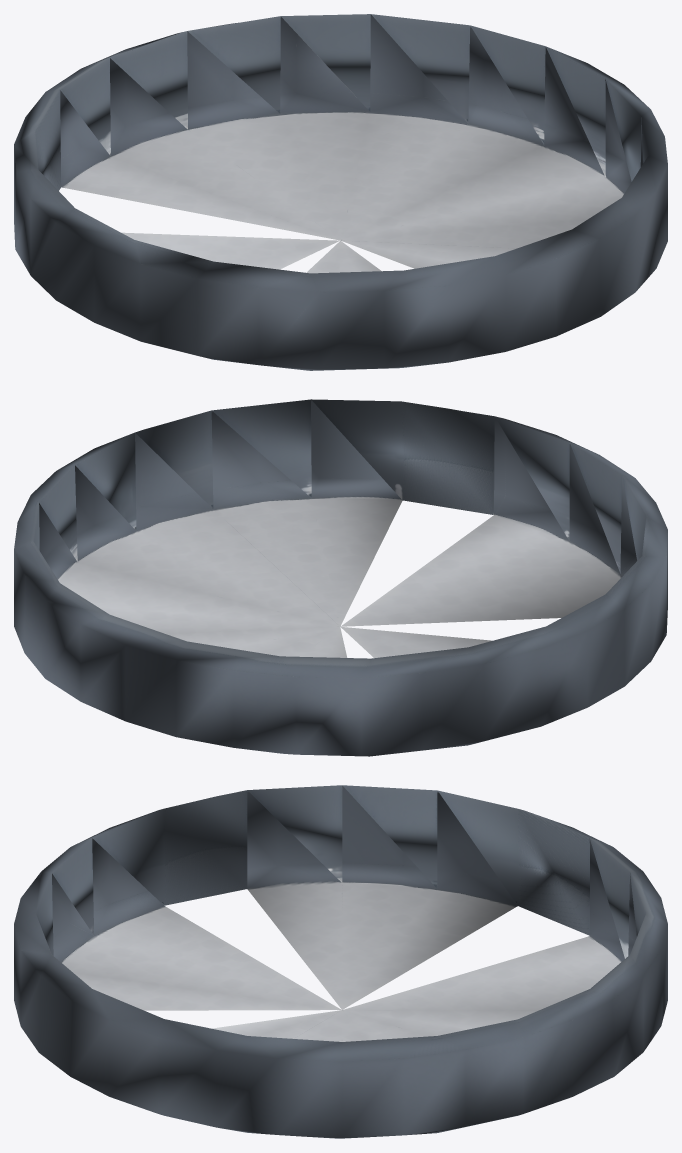
Rendered from ceiling_lamp.fbx.
The picture shows the model from 3 angles, top to bottom: view 1: azimuth 30°, elevation 25°; view 2: azimuth 150°, elevation 25°; view 3: azimuth 270°, elevation 25°; orthographic projection.
Visible parts, largest first — view 1: Mesh_0; view 2: Mesh_0; view 3: Mesh_0.
Part boxes in pixels (x1,y1,x2,y2): Mesh_0: [14, 14, 667, 370]; Mesh_0: [14, 399, 667, 756]; Mesh_0: [14, 785, 667, 1138].
Bounding box in the file's own units: 94.78 × 15.77 × 95.17.
Materials: 1 (1 with a texture image).
